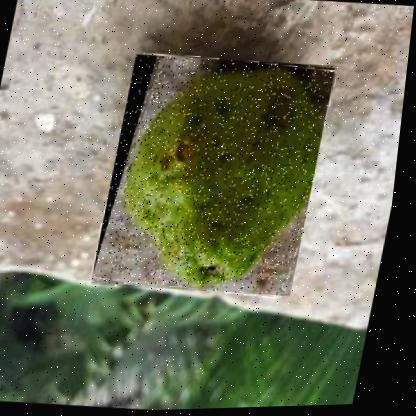guava: (95, 48, 339, 302)
